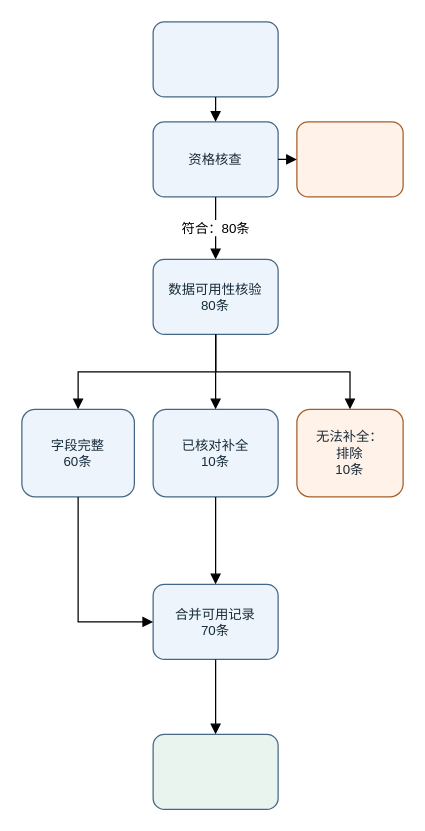
Some shapes in this 425 by 831 pixel diagram are drawn without their labels. Each missing label, with the centre of its shape:
不符合资格： 排除 20条: the point at 349,159
分析准备 70条: the point at 215,771
导入模拟记录 100条: the point at 215,59
